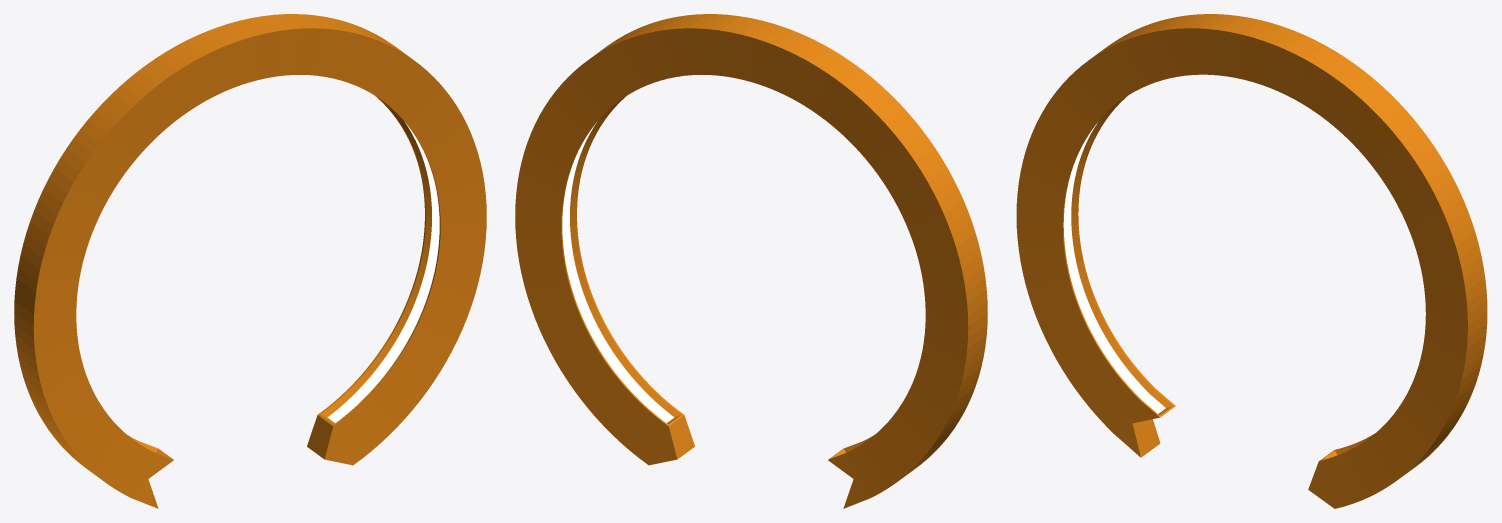
The model's file is INCONOGRAPHY_v8-T.glb.
3 views of the same model, side by side, from view 1: azimuth 30°, elevation 25°; view 2: azimuth 150°, elevation 25°; view 3: azimuth 330°, elevation 25° (orthographic).
Parts seen in each view (by area): view 1: BezierCircle; view 2: BezierCircle; view 3: BezierCircle.
Part boxes in pixels (x1=…): BezierCircle: x1=14, y1=14, x2=486, y2=508; BezierCircle: x1=515, y1=14, x2=987, y2=508; BezierCircle: x1=1016, y1=14, x2=1487, y2=508.
Size of what is drawn, in the model's own units: 1.87 by 1.79 by 0.14.
